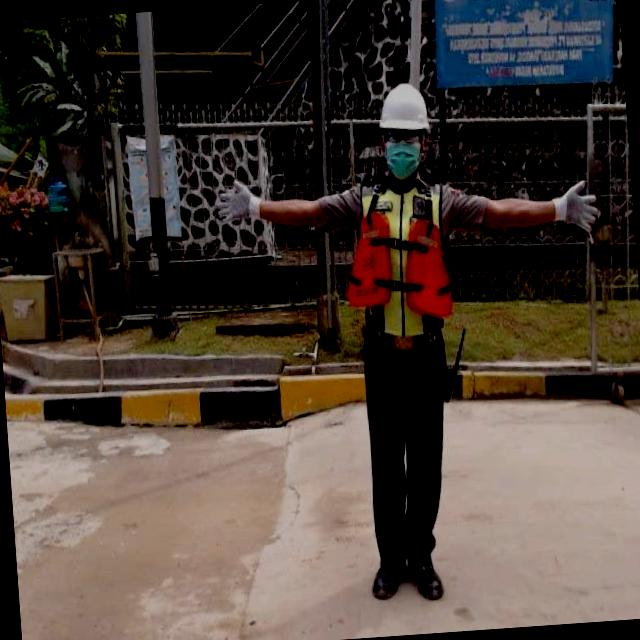vest: (334, 172, 464, 344)
